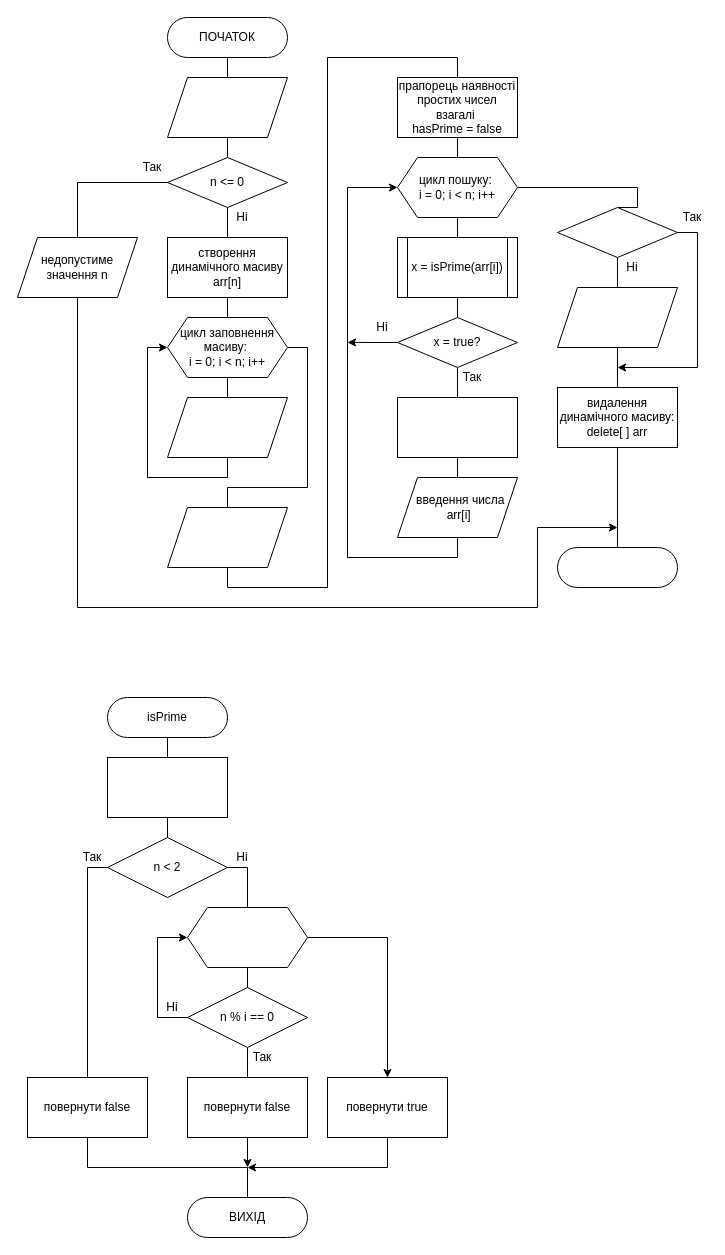
Image size: 725x1255. Some labels were removed from this diagram. Here are the shapes that lost their labels. From the top down, the centre of each, then its label:
At (227,107): "ввести кількість чисел n".
At (617,232): "isPrime = true?".
At (617,317): "прості числа не знайдено!".
At (227,427): "введення числа для arr[i]".
At (457,427): "прості числа знайдено hasPrime = true".
At (227,537): "Визначаємо прості числа".
At (617,567): "КІНЕЦЬ".
At (167,787): "прийняти параметр: число n".
At (247,937): "цикл : i = 2; i <= sqrt(n); i++".
